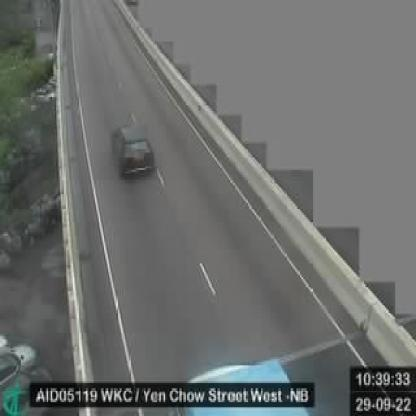Car: (104, 120, 160, 180)
